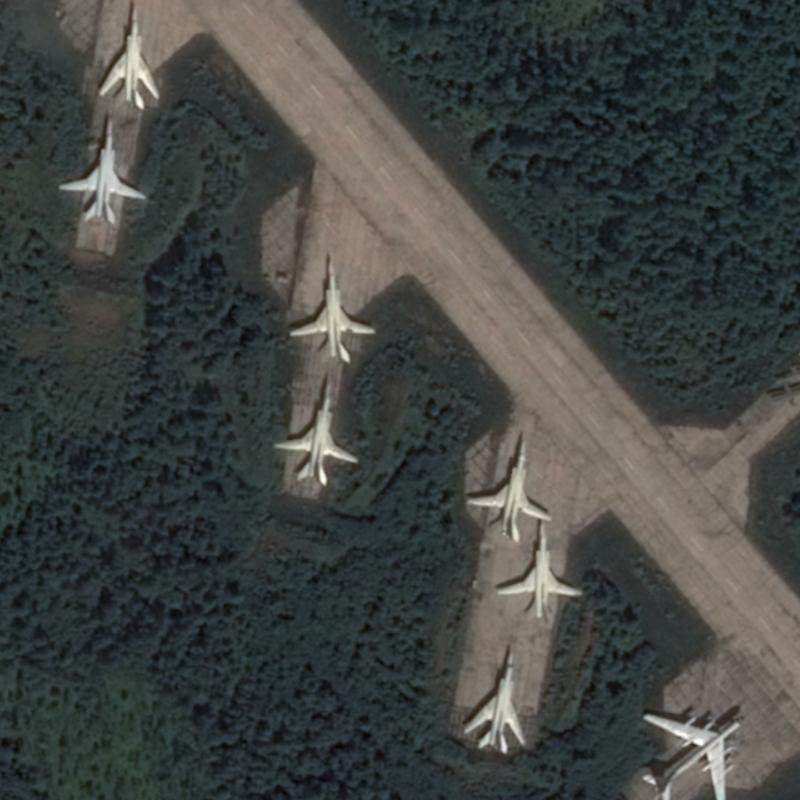A12: (52, 111, 148, 229), (268, 369, 358, 489), (283, 248, 376, 363), (461, 437, 554, 544), (492, 515, 583, 621), (458, 641, 527, 758), (94, 0, 159, 110)
A17: (636, 706, 747, 799)
